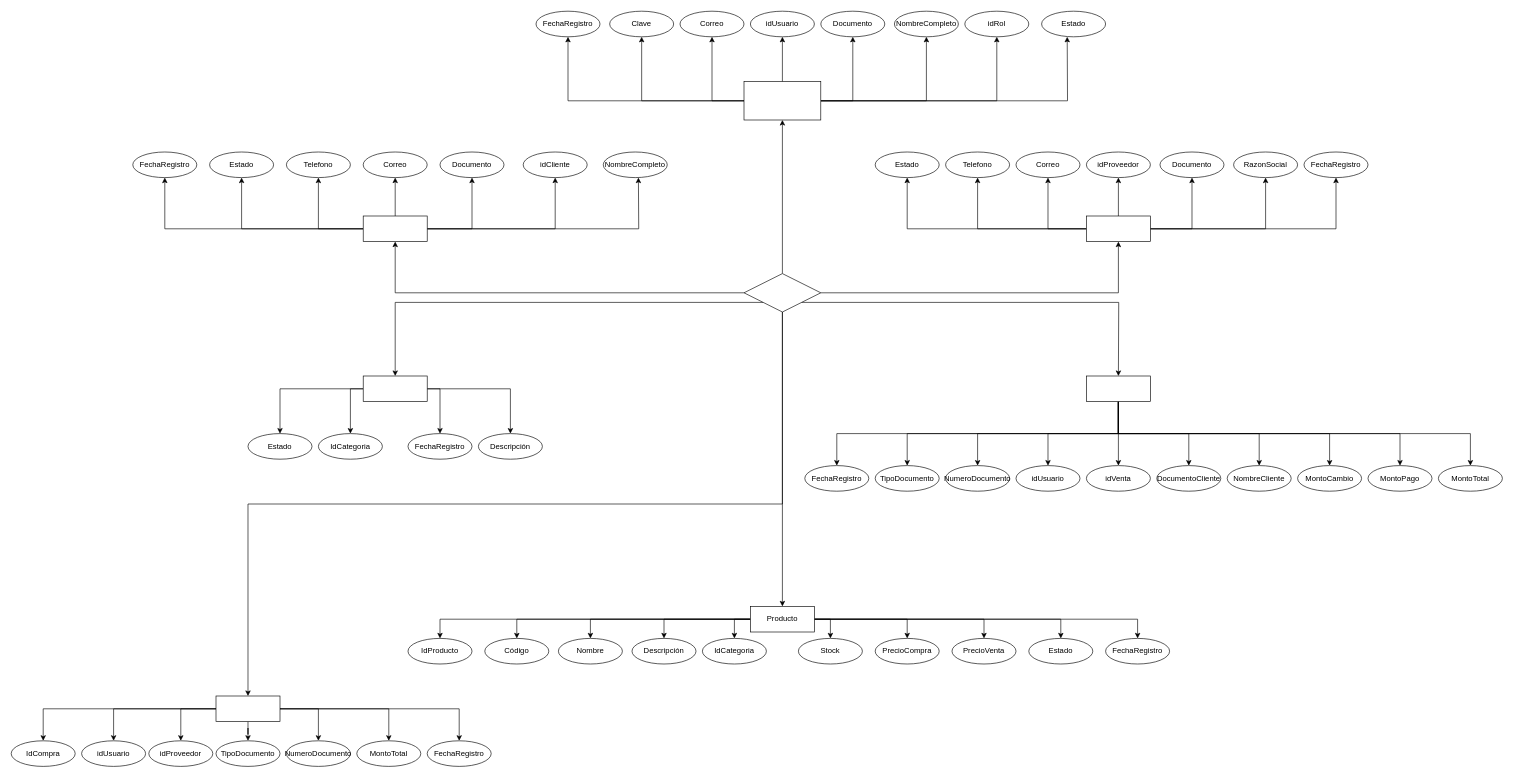
This 1514x778 diagram has some shape labels left out. The shapes that lost their labels are listed below. From the top down, each one's centre as x and y in pixels, then its label:
the point at 782,100: Usuario
the point at 395,228: Cliente
the point at 1118,228: Proveedor
the point at 782,292: Contiene
the point at 395,388: Categoría
the point at 1118,388: Venta
the point at 247,708: CompraProveedor
